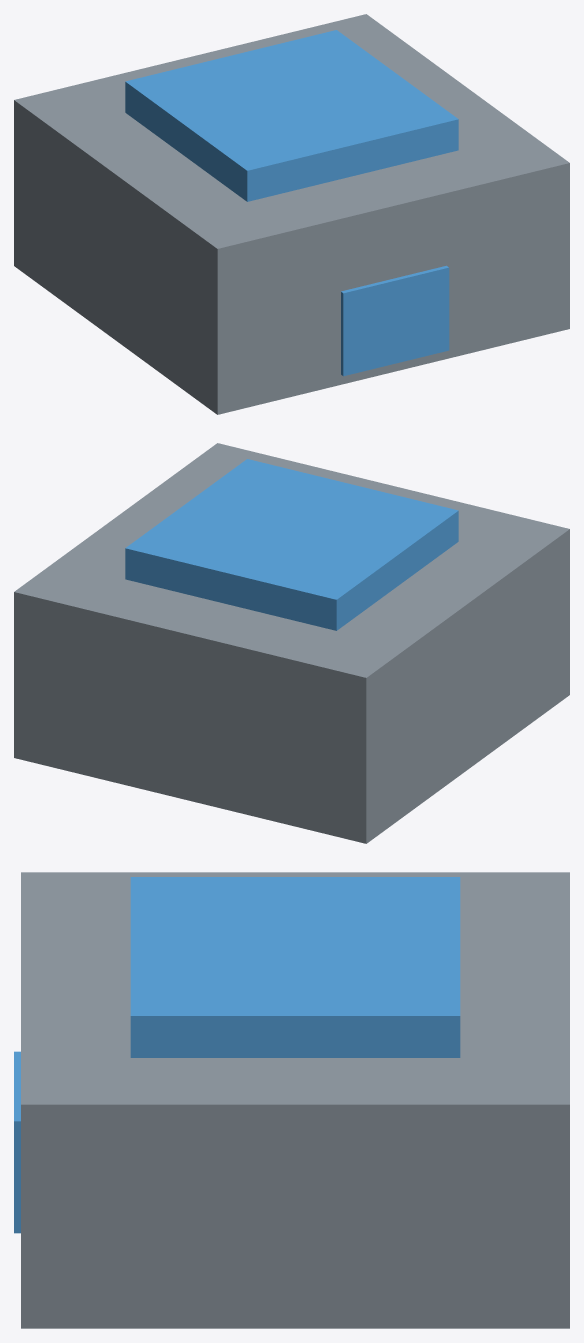
File: AL_Airfield_LOD0.glb
3 views of the same model, one above another, from view 1: azimuth 30°, elevation 25°; view 2: azimuth 150°, elevation 25°; view 3: azimuth 270°, elevation 25° (orthographic). The views are drawn at different scales.
Visible parts, largest first — view 1: EntranceGate; view 2: EntranceGate; view 3: EntranceGate.
Part boxes in pixels (bbox=[...]): EntranceGate: bbox=[14, 14, 569, 414]; EntranceGate: bbox=[14, 443, 569, 843]; EntranceGate: bbox=[14, 872, 569, 1328].
Bounding box in the file's own units: 800 × 428 × 810.
